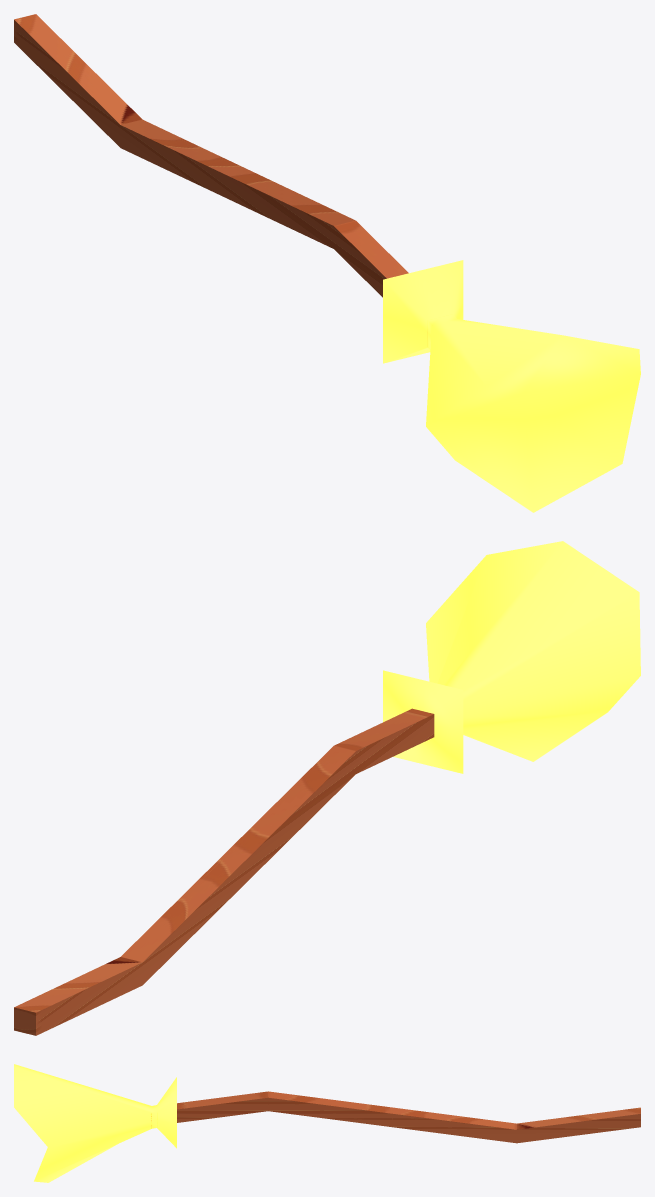
Rendered from Broom.glb.
3 views of the same model, one above another, from view 1: azimuth 30°, elevation 25°; view 2: azimuth 150°, elevation 25°; view 3: azimuth 270°, elevation 25° (orthographic). The views are drawn at different scales.
Parts seen in each view (by area): view 1: Cube.086; view 2: Cube.086; view 3: Cube.086.
Part boxes in pixels (<box>): Cube.086: <box>14,14,640,512</box>; Cube.086: <box>14,541,640,1035</box>; Cube.086: <box>14,1064,640,1182</box>.
Size of the model in its own units: 0.7353 by 0.6511 by 3.19.
1 material, 1 textured.
